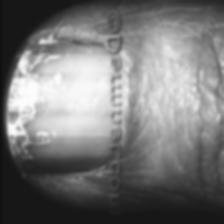Toxin: (10, 30, 67, 184)
